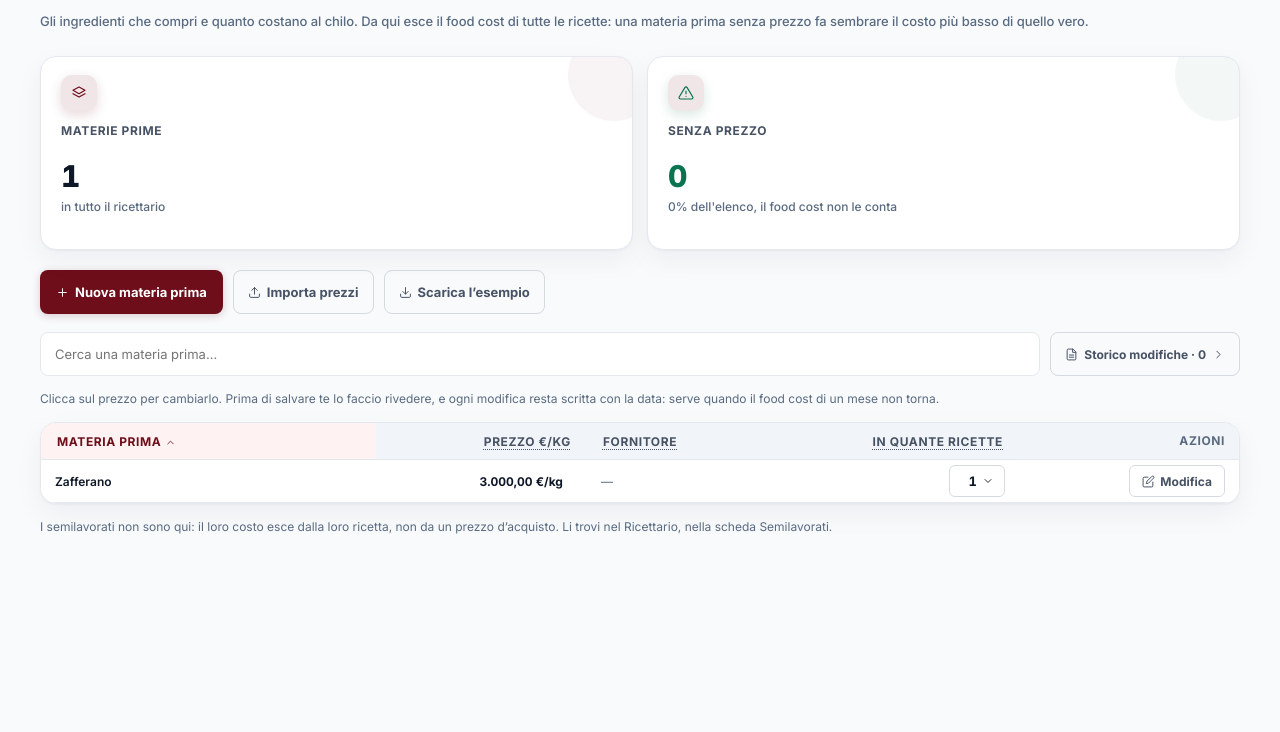
Scenario: il punto sono le migliaia, e la pagina lo dichiara › scrivendo «1.250» avverte che ha letto 1.250 €/kg
Click the button "Modifica" at (1177, 481), box [1129,465,1225,497]
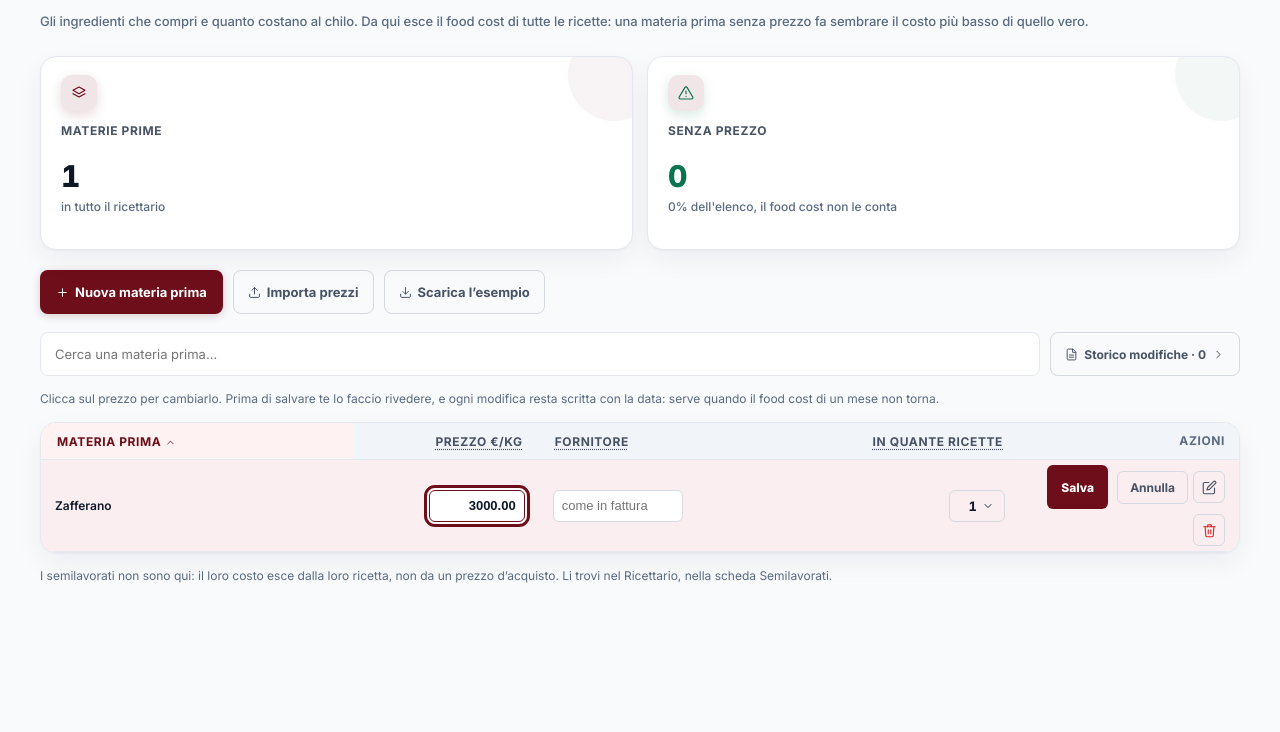
Replace the text in the field named "Prezzo per chilo di zafferano" with "1.250" at (477, 506), box [429,490,525,522]
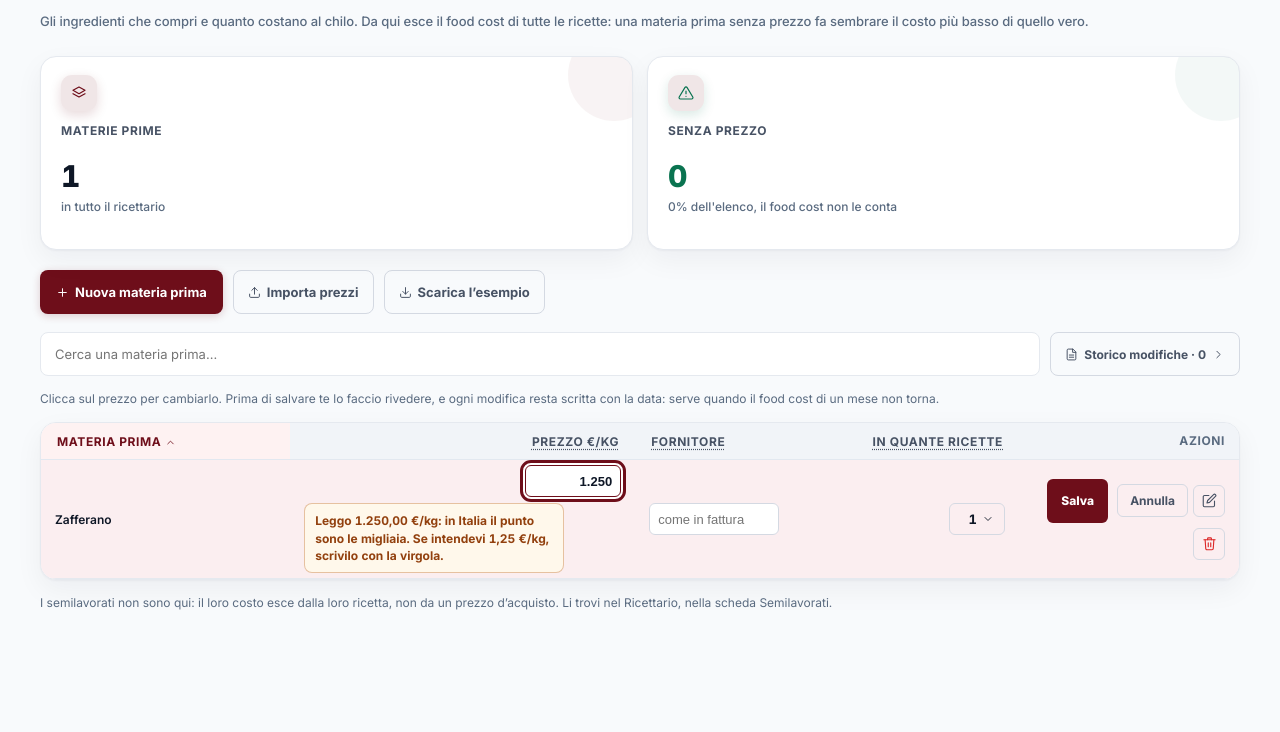
Now the text "il punto sono le migliaia" is shown, box [315,513,534,546]
Now the text "1.250,00 €/kg" is shown, box [355,513,438,528]
